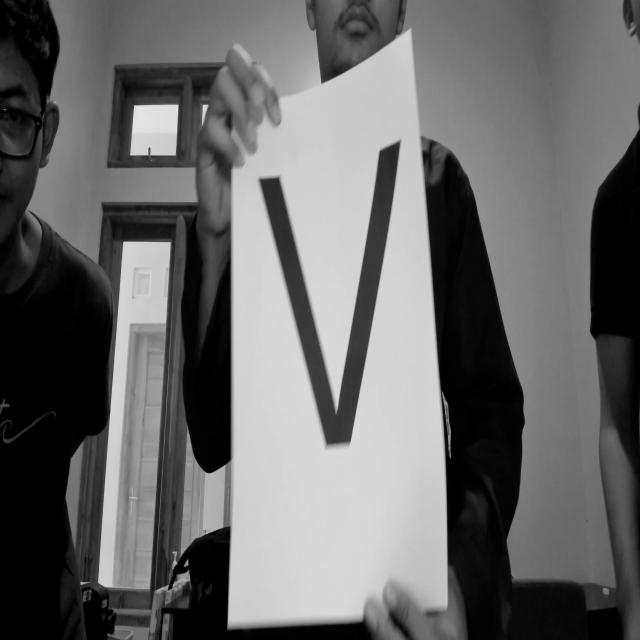v: (241, 124, 434, 476)
